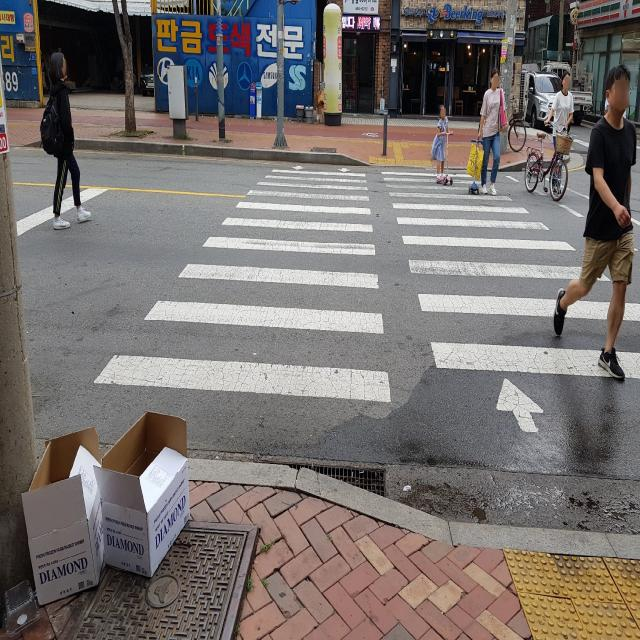횡단보도: (91, 166, 640, 437)
